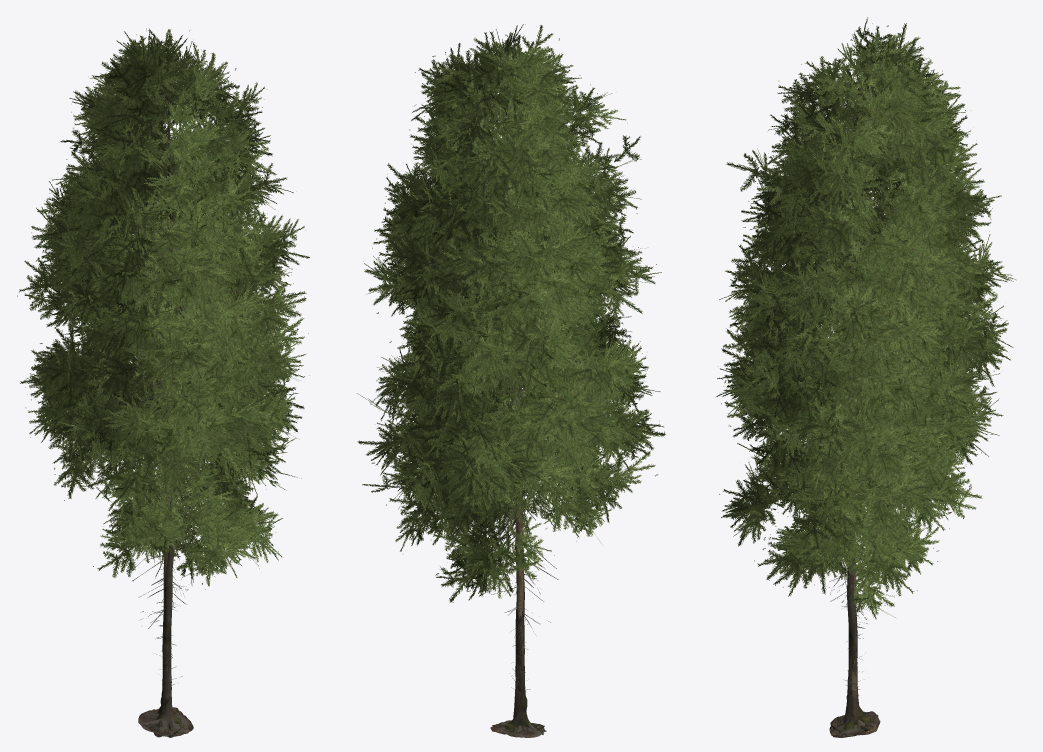
File: fir_trees_lite.glb
3 renders of one model, left to right at view 1: azimuth 30°, elevation 25°; view 2: azimuth 150°, elevation 25°; view 3: azimuth 270°, elevation 25°, orthographic. The views are drawn at different scales.
Visible parts, largest first — view 1: fir_a_lod0, fir_b_lod0, fir_c_lod0; view 2: fir_a_lod0, fir_b_lod0, fir_c_lod0; view 3: fir_a_lod0, fir_b_lod0, fir_c_lod0.
Boxes of the visible parts, x1,y1,x2,y2 form: fir_a_lod0: (17, 28, 309, 737); fir_b_lod0: (20, 213, 299, 735); fir_c_lod0: (53, 205, 304, 736); fir_a_lod0: (357, 24, 661, 735); fir_b_lod0: (386, 222, 665, 737); fir_c_lod0: (357, 206, 631, 737); fir_a_lod0: (719, 17, 1016, 735); fir_b_lod0: (715, 214, 999, 737); fir_c_lod0: (721, 220, 1003, 733).
Size of what is drawn, in the model's own units: 8.3 by 19.71 by 8.2.
Materials: 5 (5 with a texture image).
